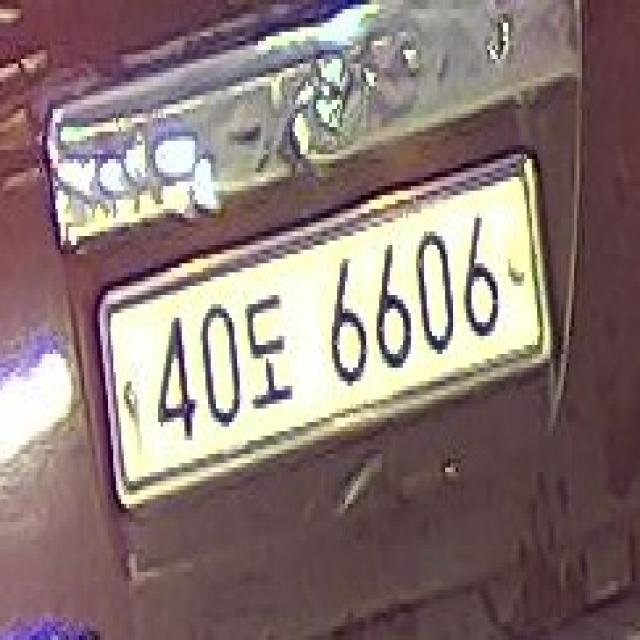0: (414, 232, 458, 358), (198, 304, 240, 431)
4: (150, 313, 198, 440)
6: (369, 236, 411, 368), (461, 204, 500, 340), (329, 254, 369, 381)
do: (242, 291, 292, 413)
license_plate: (103, 150, 550, 508)
